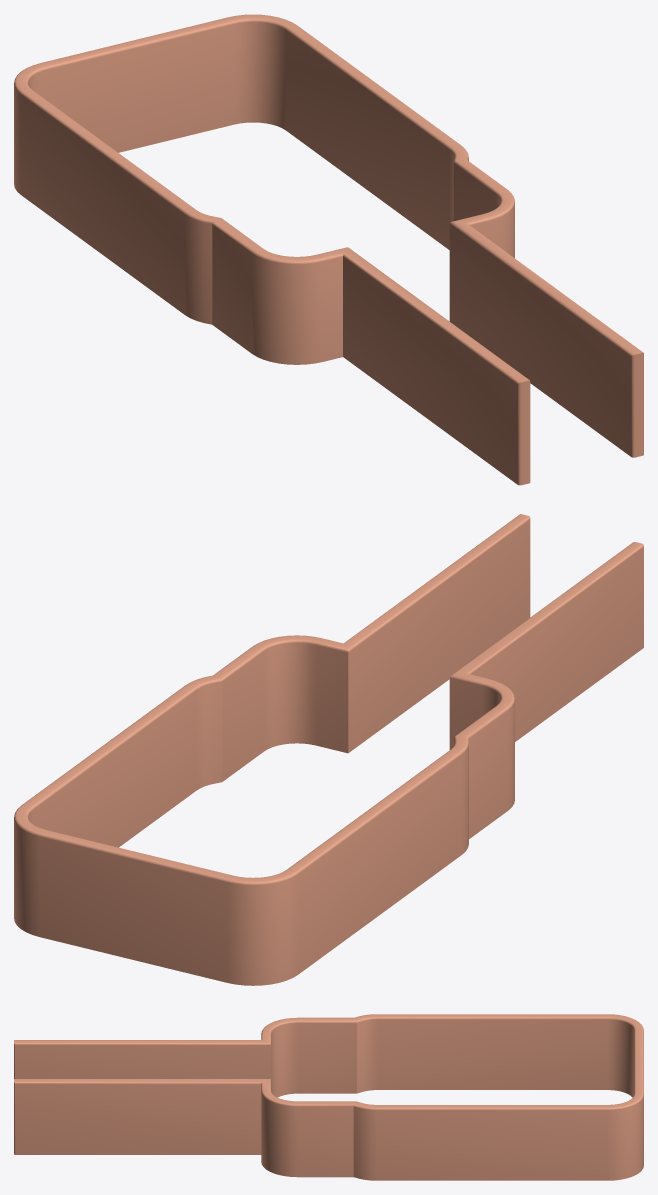
File: map_2.fbx
3 views of the same model, one above another, from view 1: azimuth 30°, elevation 25°; view 2: azimuth 150°, elevation 25°; view 3: azimuth 270°, elevation 25° (orthographic). The views are drawn at different scales.
Visible parts, largest first — view 1: map_2; view 2: map_2; view 3: map_2.
Boxes of the visible parts, <box> form: map_2: <box>14,14,643,485</box>; map_2: <box>14,514,643,985</box>; map_2: <box>14,1014,643,1180</box>.
Size of the model in its own units: 1810 by 642 by 5074.
